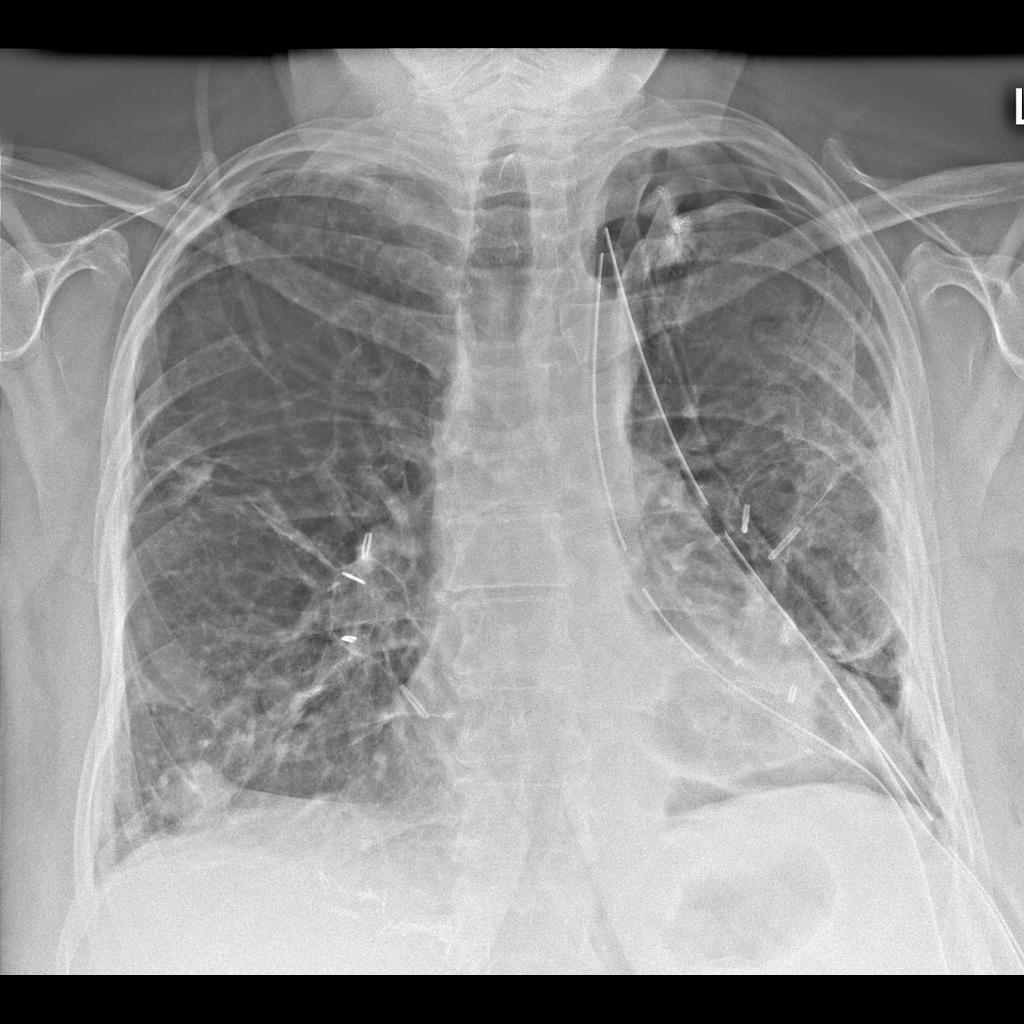Nodule: (153, 756, 241, 835)
